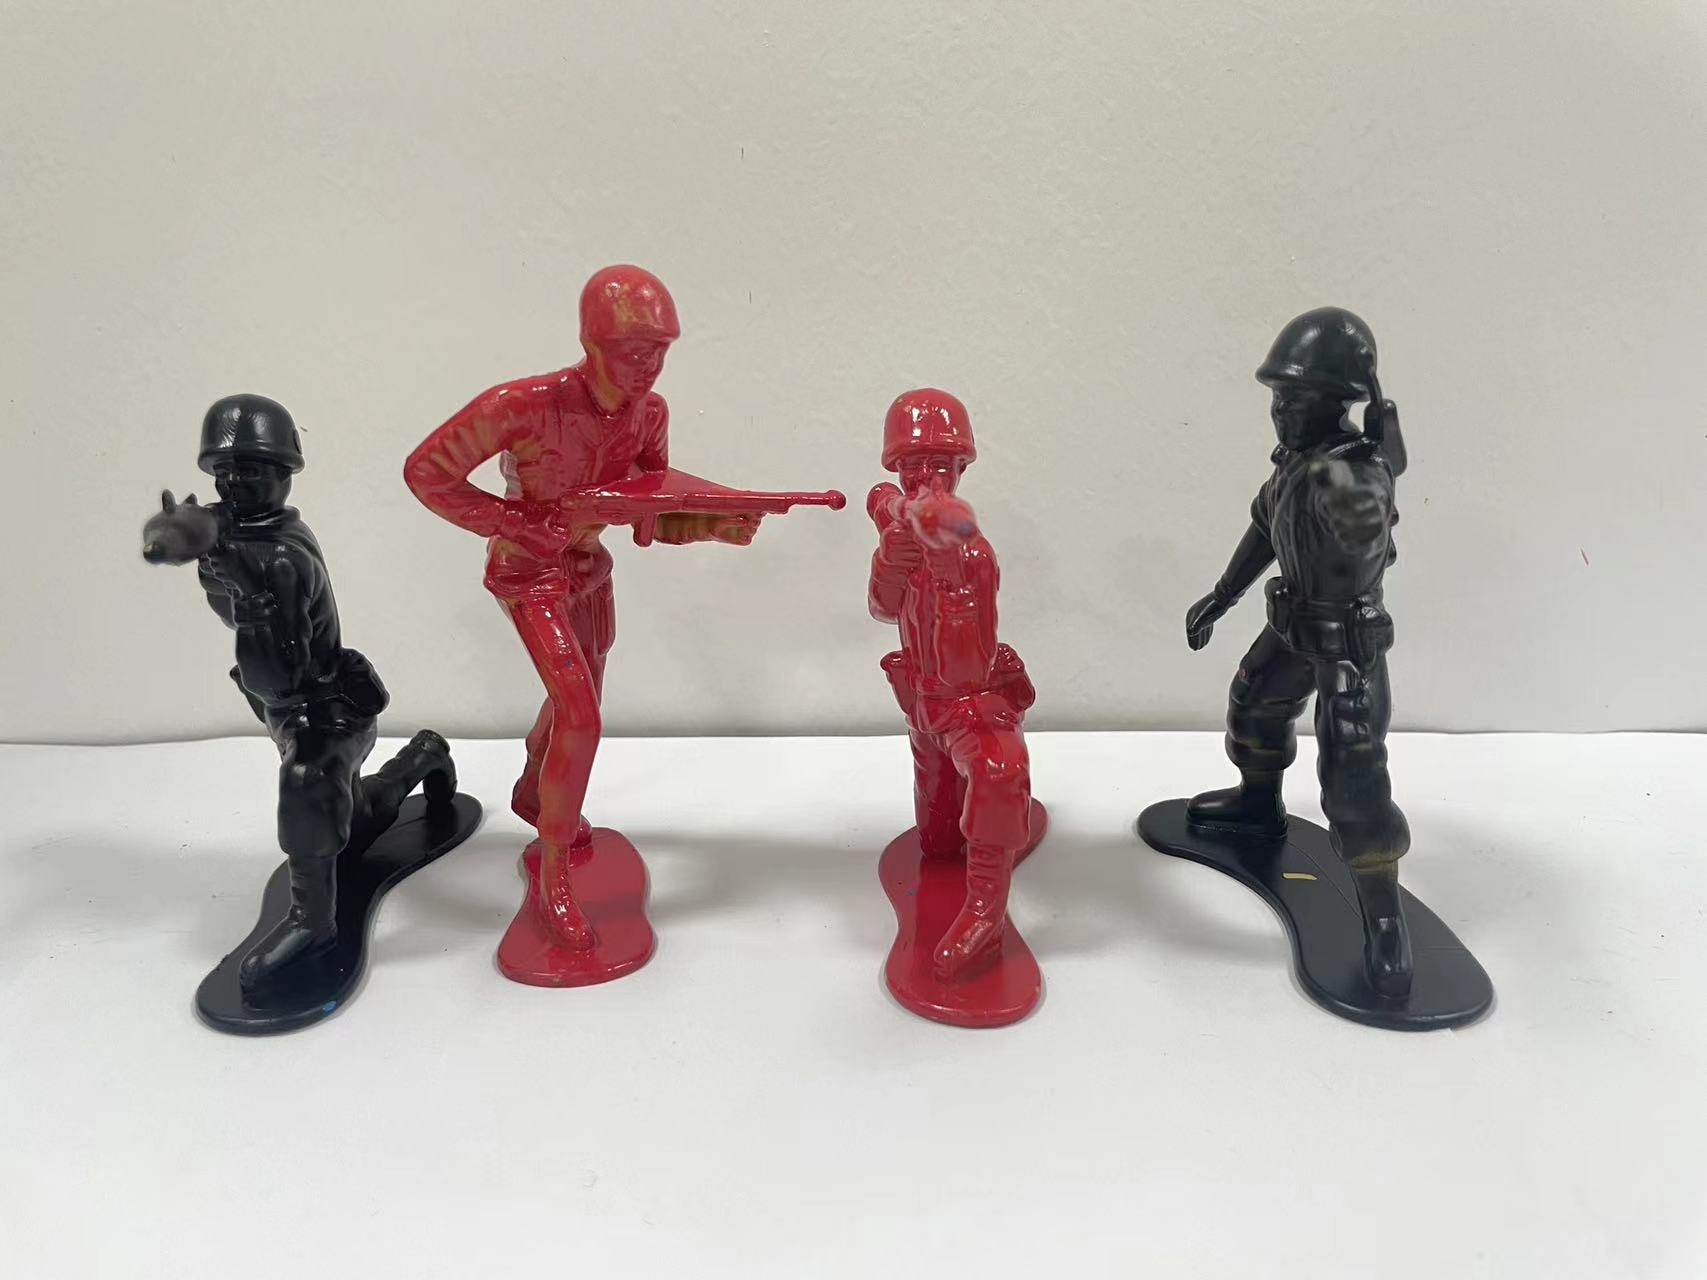black: (1126, 251, 1520, 1084), (121, 360, 460, 1050)
red: (403, 226, 829, 1072), (827, 355, 1108, 1074)
